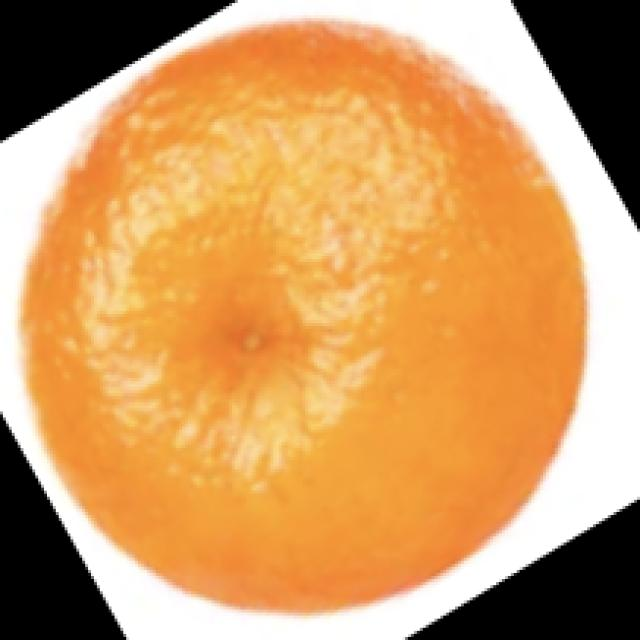matang: (20, 15, 582, 615)
